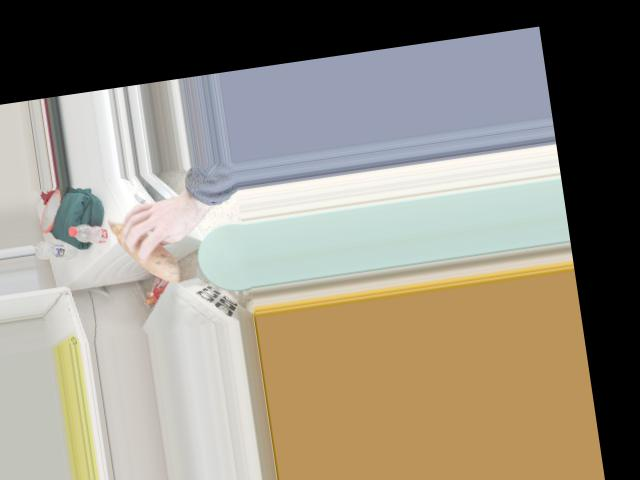sweet_potato: (109, 207, 179, 285)
